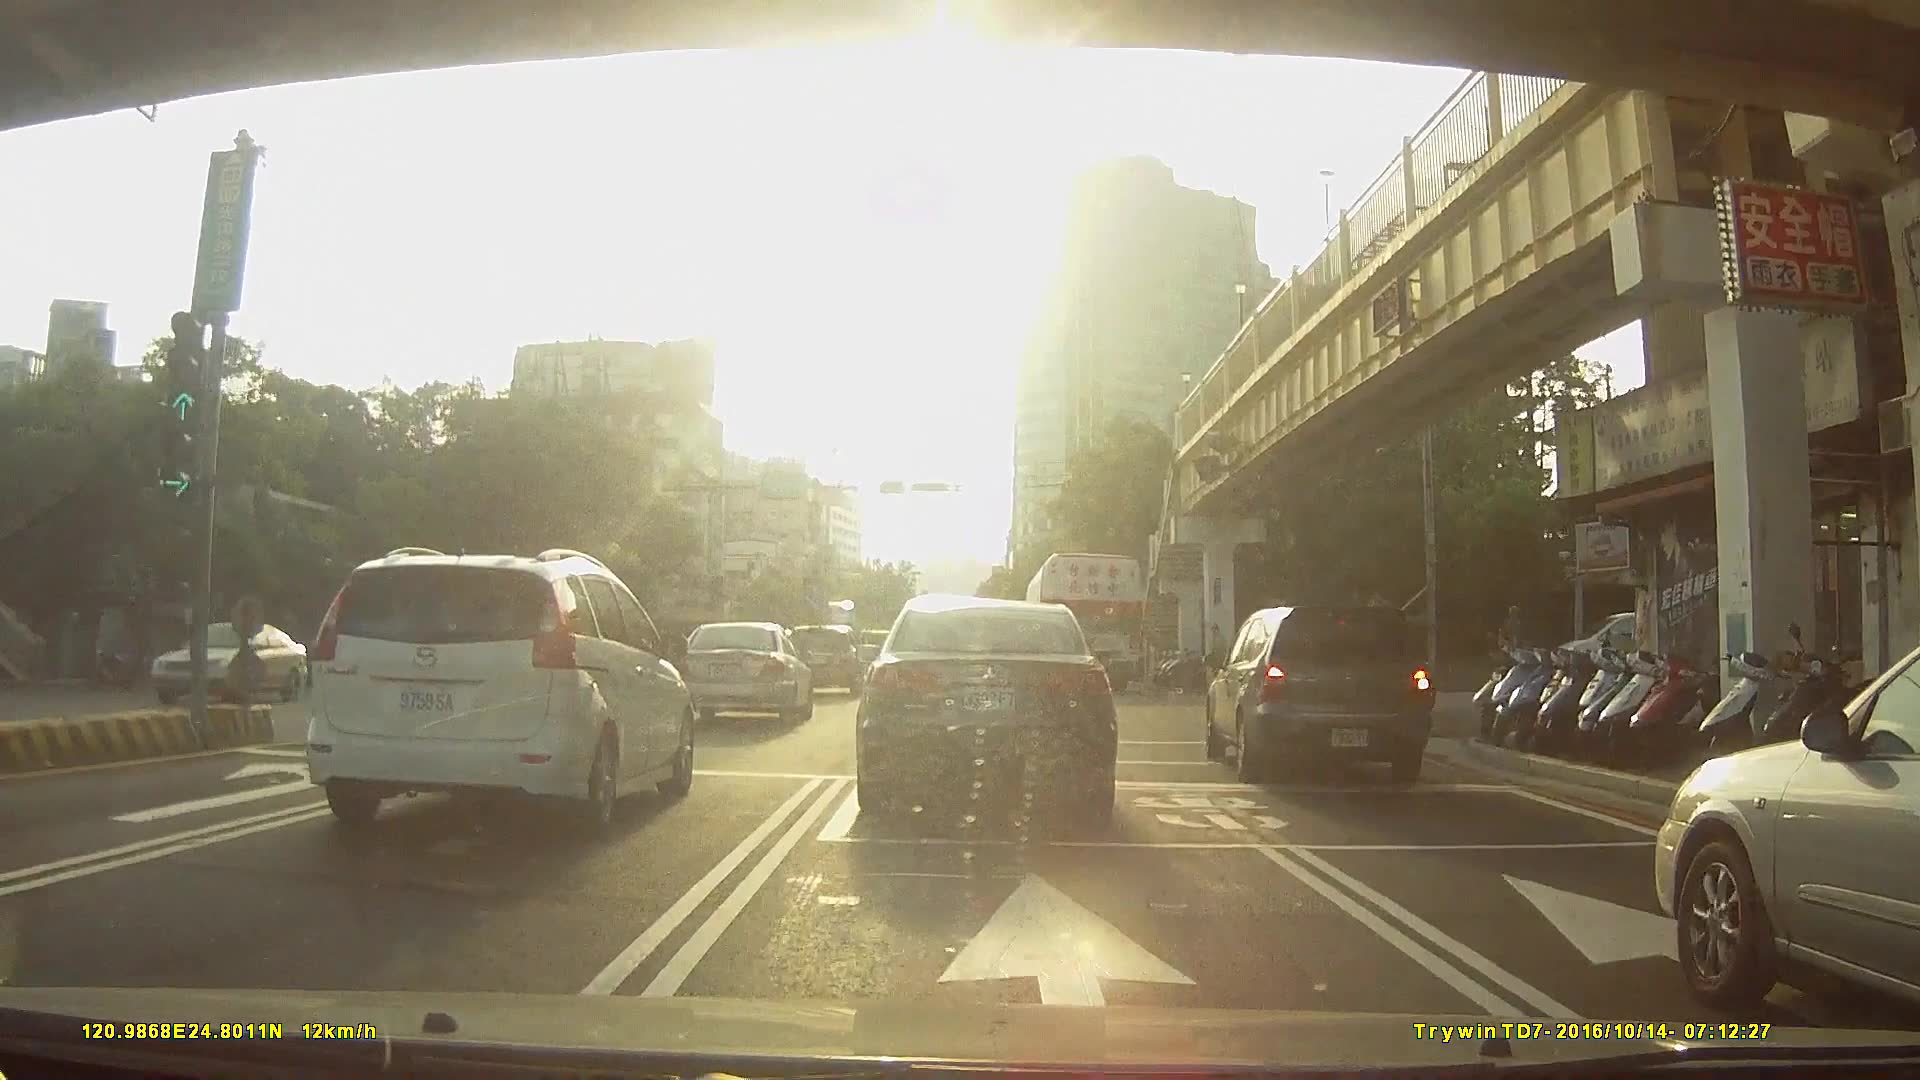pedestrian: (1205, 619, 1232, 682)
vehicle: (304, 544, 696, 834), (1655, 646, 1920, 1019), (852, 590, 1116, 823), (1201, 600, 1440, 786), (1026, 554, 1145, 695), (148, 621, 321, 706), (678, 621, 814, 726), (781, 624, 864, 697)
